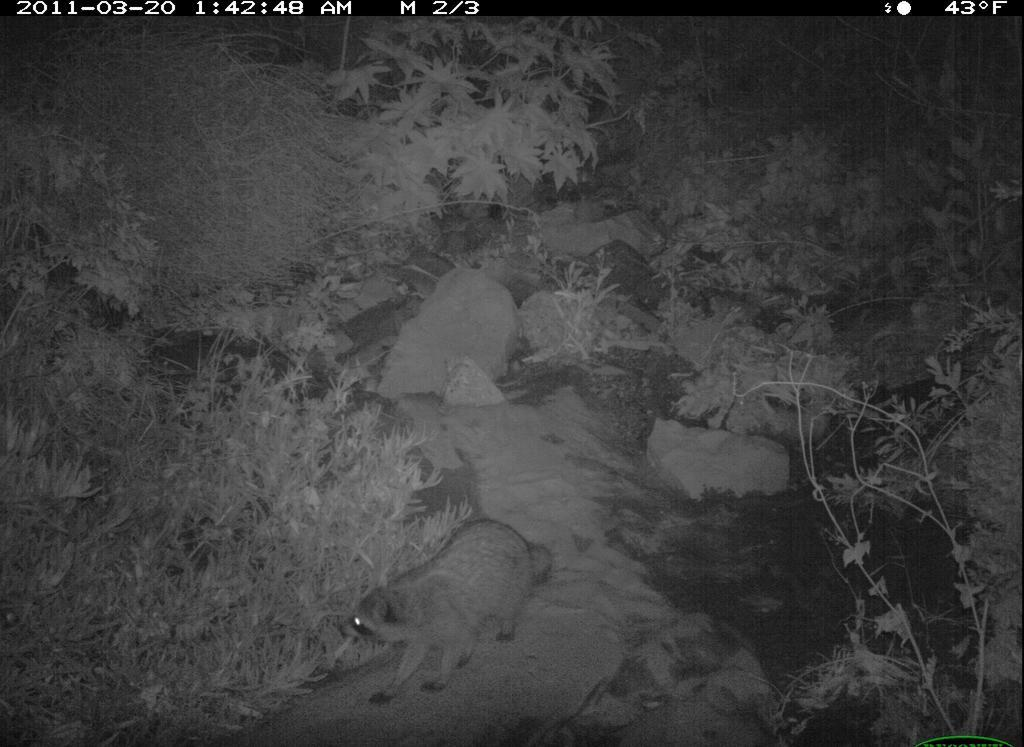raccoon: (329, 515, 573, 707)
